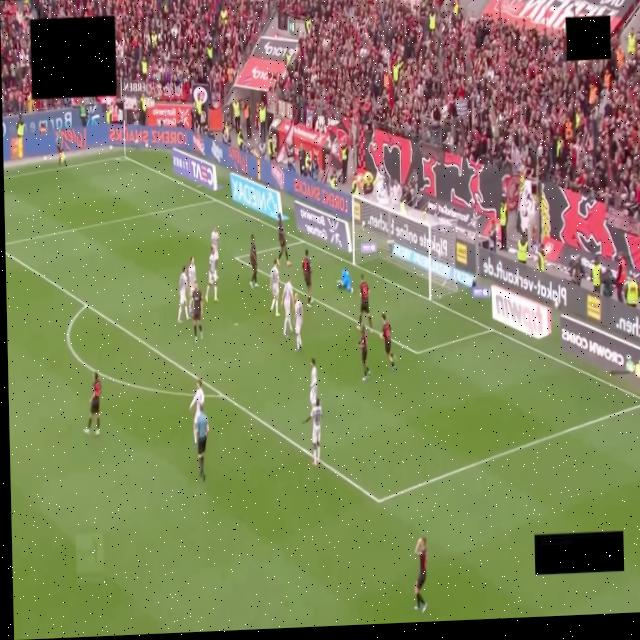player: (303, 398, 322, 466), (84, 372, 101, 435), (189, 380, 203, 446), (414, 538, 426, 612), (380, 313, 395, 370), (358, 274, 372, 328), (357, 326, 370, 381), (277, 214, 290, 266), (191, 282, 202, 343), (205, 247, 217, 302), (281, 278, 292, 337), (177, 266, 188, 322), (301, 250, 311, 307), (269, 260, 279, 316), (249, 235, 258, 288), (187, 256, 195, 313), (294, 294, 302, 351), (309, 358, 318, 407), (337, 268, 352, 293), (210, 225, 219, 255)
referee: (197, 412, 208, 480)
